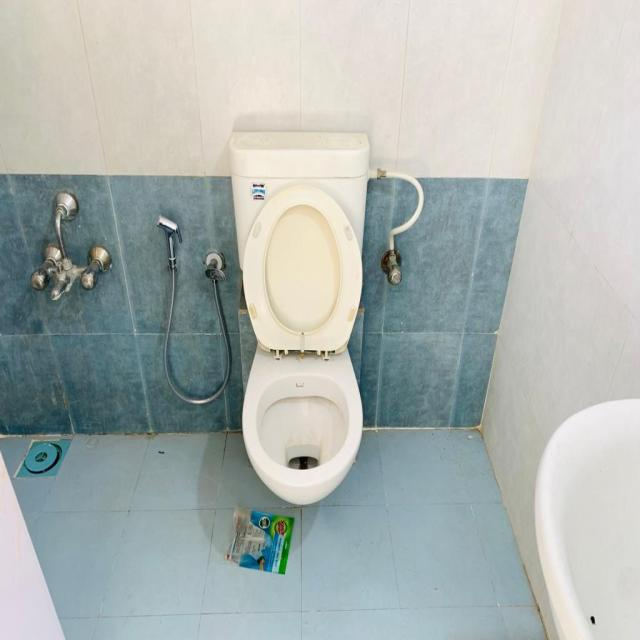floor: (0, 429, 550, 640)
wall: (479, 0, 640, 640)
